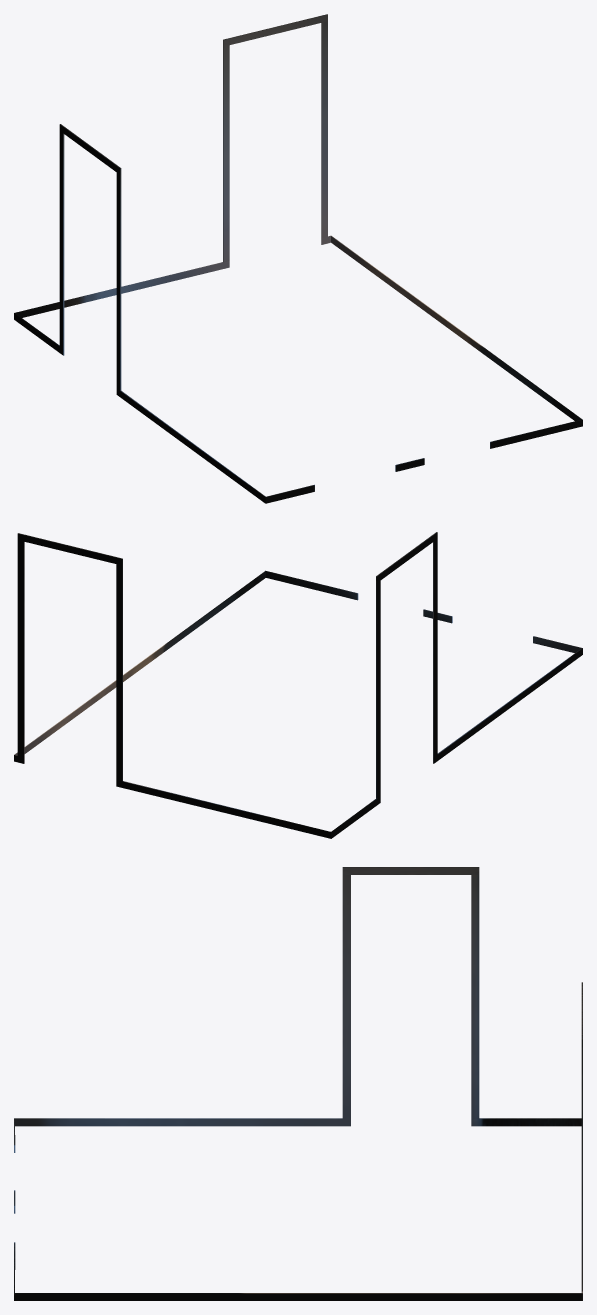
The picture shows the model from 3 angles, top to bottom: view 1: azimuth 30°, elevation 25°; view 2: azimuth 150°, elevation 25°; view 3: azimuth 270°, elevation 25°; orthographic projection. The views are drawn at different scales.
Visible parts, largest first — view 1: Plane.013; view 2: Plane.013; view 3: Plane.013.
Part boxes in pixels (x1,y1,x2,y2): Plane.013: (14,14,582,503); Plane.013: (14,532,582,838); Plane.013: (14,867,582,1300).
Size of the model in its own units: 3.14 by 2.16 by 4.31.
Materials: 1 (1 with a texture image).
